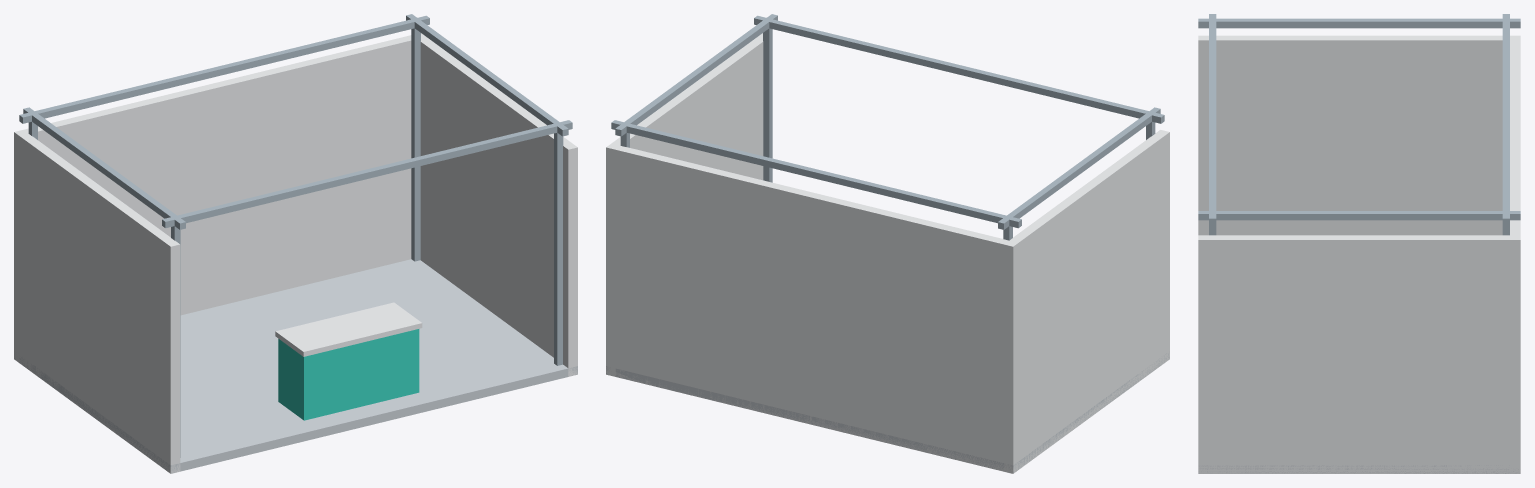
The picture shows the model from 3 angles, left to right: view 1: azimuth 30°, elevation 25°; view 2: azimuth 150°, elevation 25°; view 3: azimuth 270°, elevation 25°; orthographic projection. The views are drawn at different scales.
Visible parts, largest first — view 1: Exhibition Booth Concept; view 2: Exhibition Booth Concept; view 3: Exhibition Booth Concept.
Boxes of the visible parts, x1,y1,x2,y2 form: Exhibition Booth Concept: (14, 14, 577, 473); Exhibition Booth Concept: (606, 14, 1169, 473); Exhibition Booth Concept: (1198, 14, 1520, 473).
Size of the model in its own units: 6 by 3.49 by 4.
